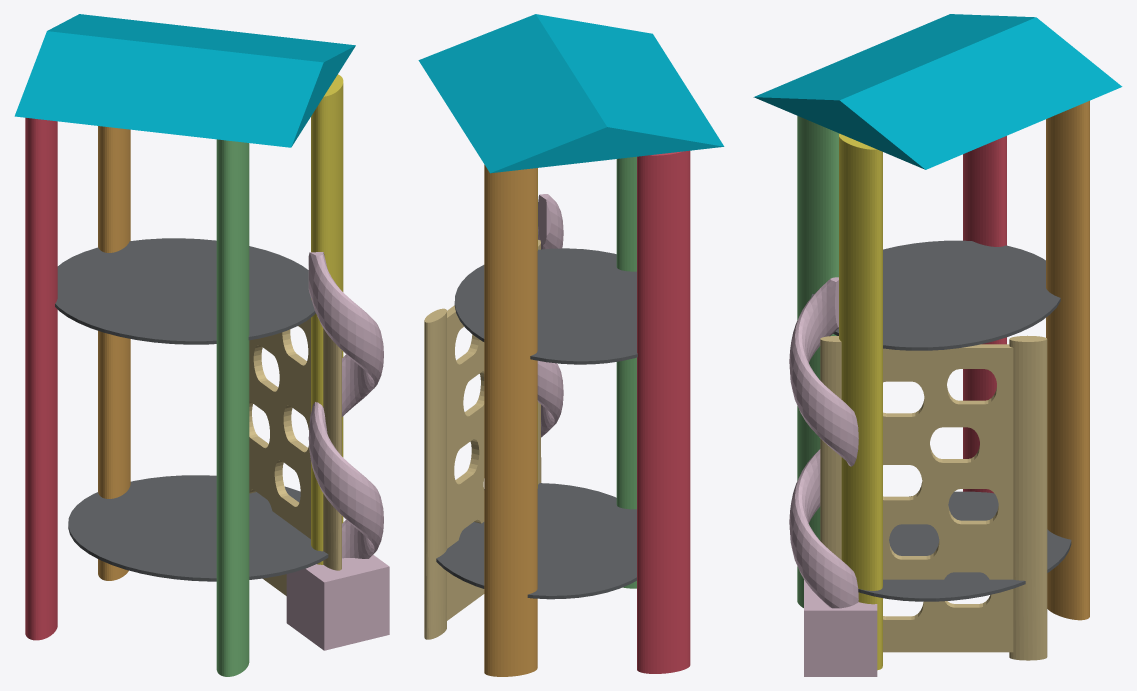
File: playground 1.glb
The picture shows the model from 3 angles, left to right: view 1: azimuth 30°, elevation 25°; view 2: azimuth 150°, elevation 25°; view 3: azimuth 270°, elevation 25°; orthographic projection. The views are drawn at different scales.
Parts seen in each view (by area): view 1: Mesh_Mesh_head_geo.001_lambert2SG.001; view 2: Mesh_Mesh_head_geo.001_lambert2SG.001; view 3: Mesh_Mesh_head_geo.001_lambert2SG.001.
Part boxes in pixels (bbox=[...]): Mesh_Mesh_head_geo.001_lambert2SG.001: bbox=[14, 14, 389, 676]; Mesh_Mesh_head_geo.001_lambert2SG.001: bbox=[418, 14, 724, 676]; Mesh_Mesh_head_geo.001_lambert2SG.001: bbox=[753, 14, 1122, 676].
Bounding box in the file's own units: 101 × 167 × 101.
